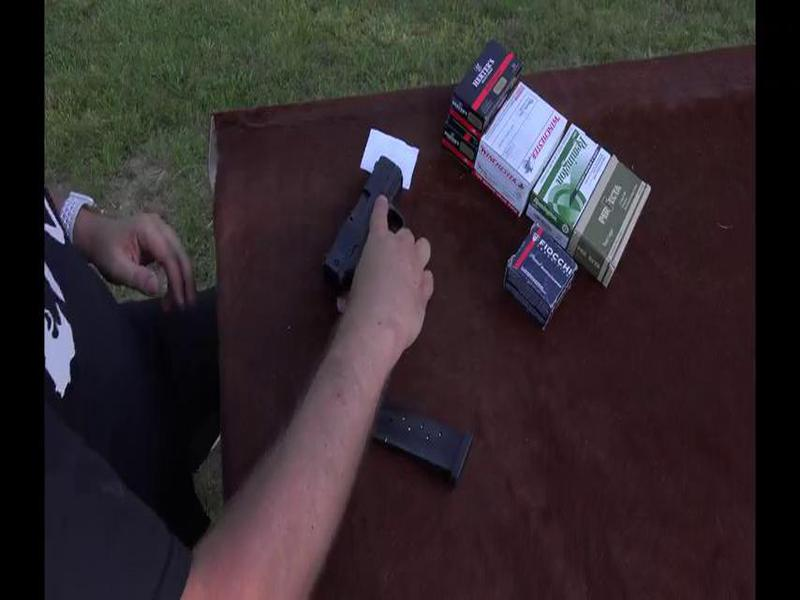Pistola: (310, 151, 430, 320)
